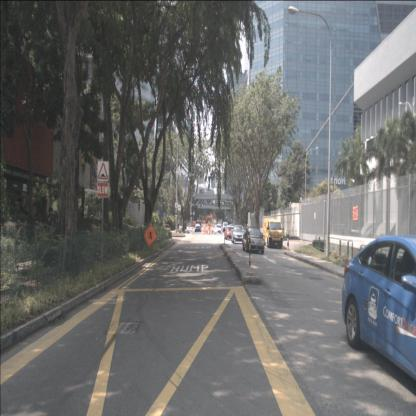vehicle-car: (342, 235, 415, 383), (242, 227, 265, 254), (263, 218, 283, 248), (231, 224, 245, 244), (224, 225, 236, 240), (196, 220, 202, 232), (216, 224, 223, 234), (223, 222, 228, 232), (195, 224, 201, 232)
